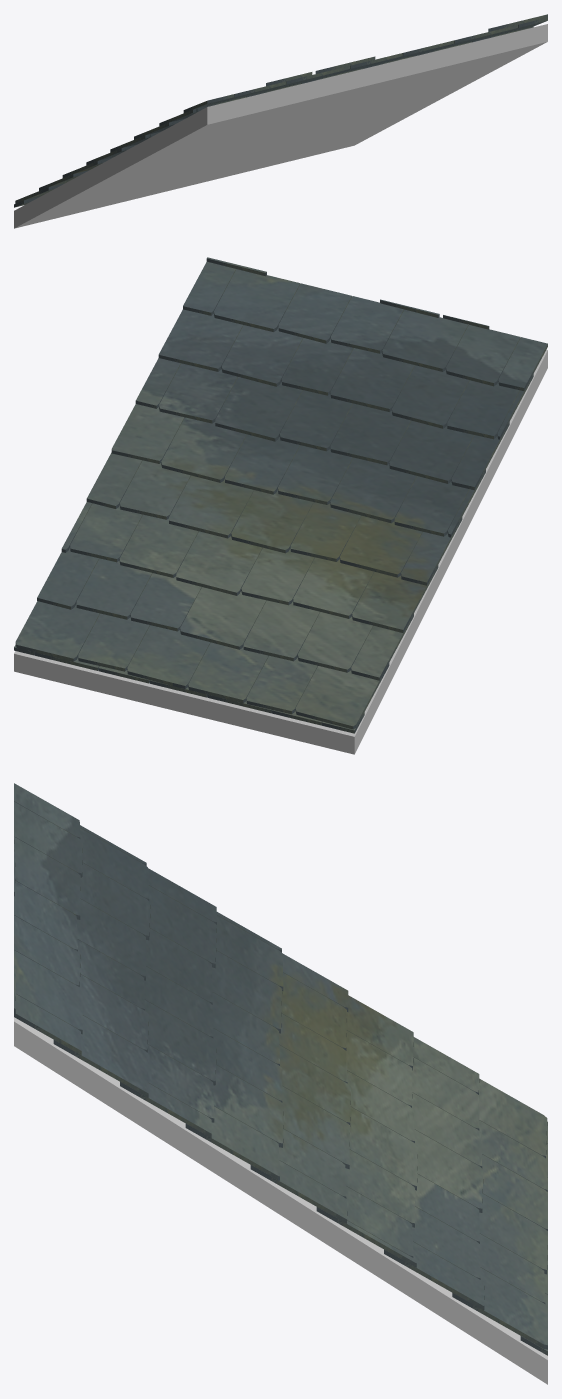
Rendered from CM_SlateRoofKit01_Panel2x2p4_35.fbx.
3 views of the same model, one above another, from view 1: azimuth 30°, elevation 25°; view 2: azimuth 150°, elevation 25°; view 3: azimuth 270°, elevation 25° (orthographic). The views are drawn at different scales.
Visible parts, largest first — view 1: CM_SlateRoofKit01_Panel2x2p4_35_Underlay, CM_SlateRoofKit01_Panel2x2p4_35_Slate; view 2: CM_SlateRoofKit01_Panel2x2p4_35_Slate, CM_SlateRoofKit01_Panel2x2p4_35_Underlay; view 3: CM_SlateRoofKit01_Panel2x2p4_35_Slate, CM_SlateRoofKit01_Panel2x2p4_35_Underlay.
Boxes of the visible parts, box(x1,y1,x2,y2) form: CM_SlateRoofKit01_Panel2x2p4_35_Underlay: box(14, 24, 547, 228); CM_SlateRoofKit01_Panel2x2p4_35_Slate: box(14, 14, 547, 207); CM_SlateRoofKit01_Panel2x2p4_35_Slate: box(14, 257, 547, 733); CM_SlateRoofKit01_Panel2x2p4_35_Underlay: box(14, 349, 547, 754); CM_SlateRoofKit01_Panel2x2p4_35_Slate: box(14, 783, 547, 1355); CM_SlateRoofKit01_Panel2x2p4_35_Underlay: box(14, 1017, 547, 1384).
Size of the model in its own units: 2 by 1.53 by 1.97.
